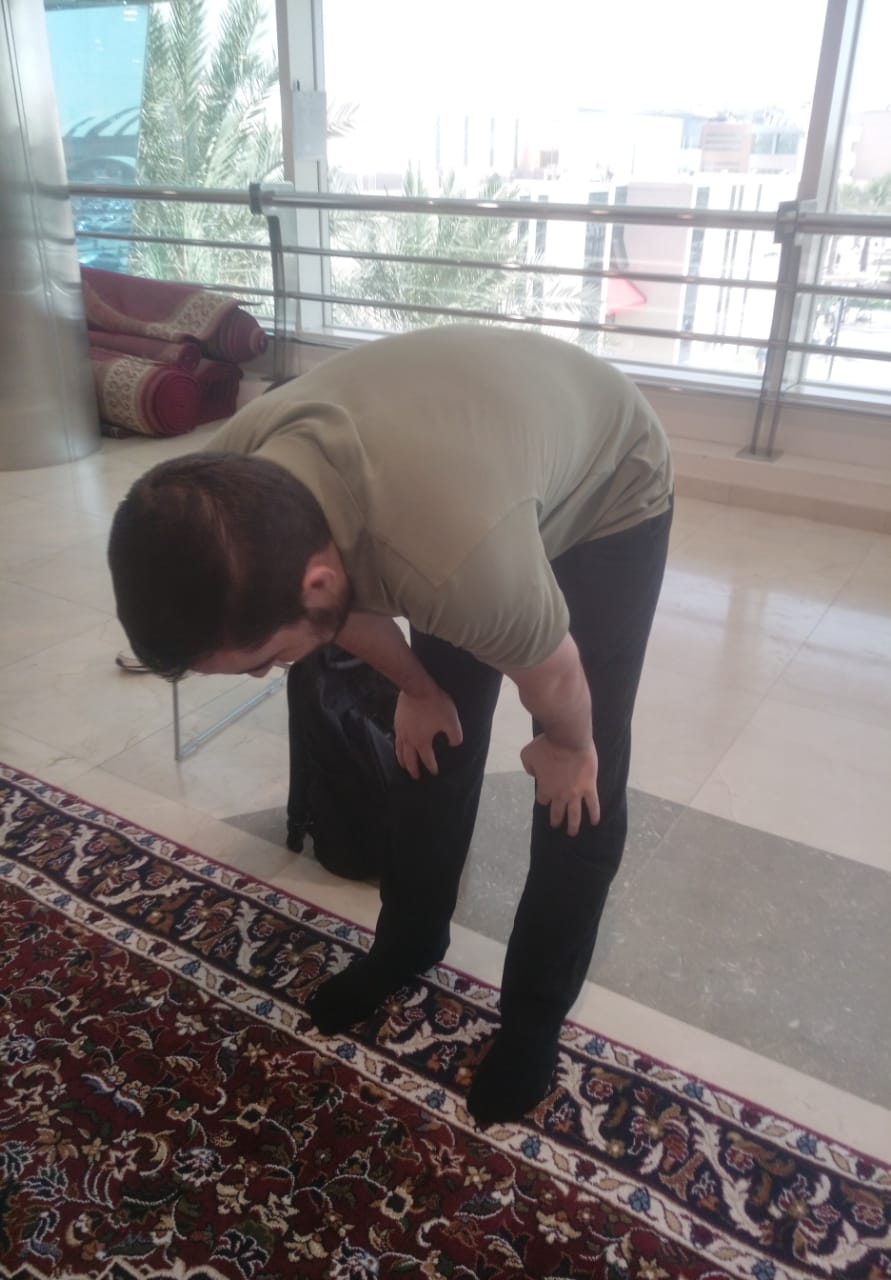ruku: (99, 307, 802, 1205)
